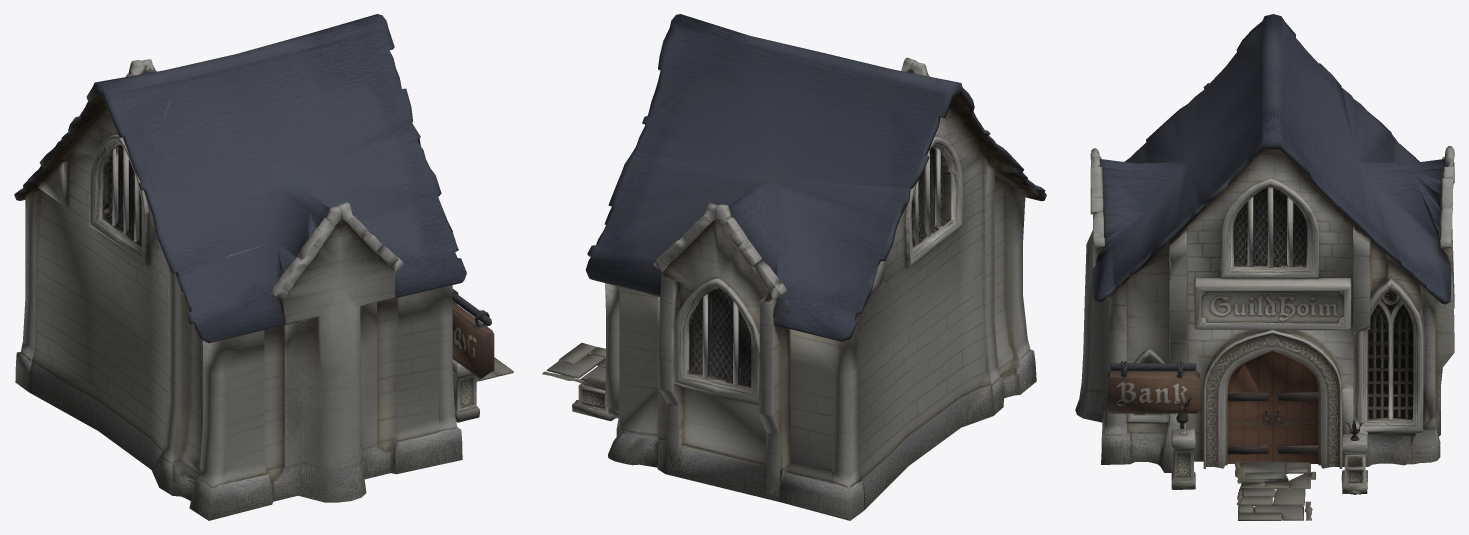
Rendered from bank.glb.
The picture shows the model from 3 angles, left to right: view 1: azimuth 30°, elevation 25°; view 2: azimuth 150°, elevation 25°; view 3: azimuth 270°, elevation 25°; orthographic projection. The views are drawn at different scales.
Visible parts, largest first — view 1: tripo_node_9063846b-cb63-44dd-9f75-276d605f859e; view 2: tripo_node_9063846b-cb63-44dd-9f75-276d605f859e; view 3: tripo_node_9063846b-cb63-44dd-9f75-276d605f859e.
Part boxes in pixels (x1,y1,x2,y2): tripo_node_9063846b-cb63-44dd-9f75-276d605f859e: [14, 14, 513, 520]; tripo_node_9063846b-cb63-44dd-9f75-276d605f859e: [542, 14, 1046, 520]; tripo_node_9063846b-cb63-44dd-9f75-276d605f859e: [1075, 14, 1454, 520].
Size of the model in its own units: 8.91 by 8 by 8.24.
1 material, 1 textured.
